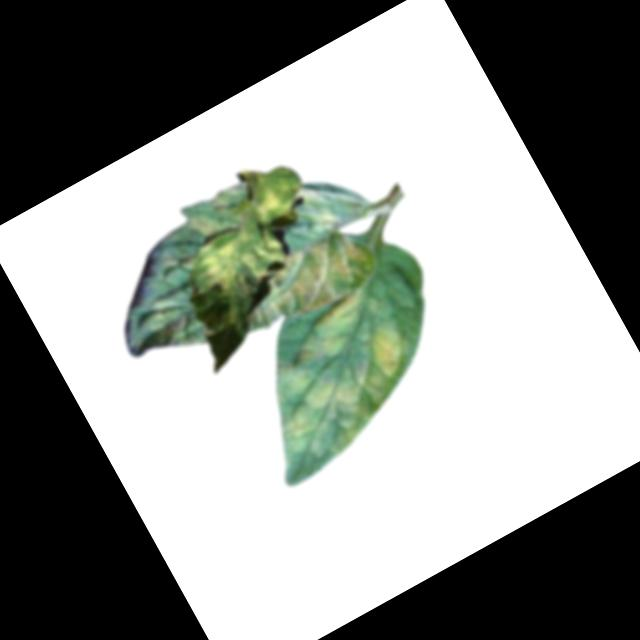Leaf_Mold: (228, 218, 386, 343), (261, 340, 402, 474), (186, 206, 293, 297), (285, 289, 382, 371), (358, 312, 420, 382), (244, 172, 303, 228)
